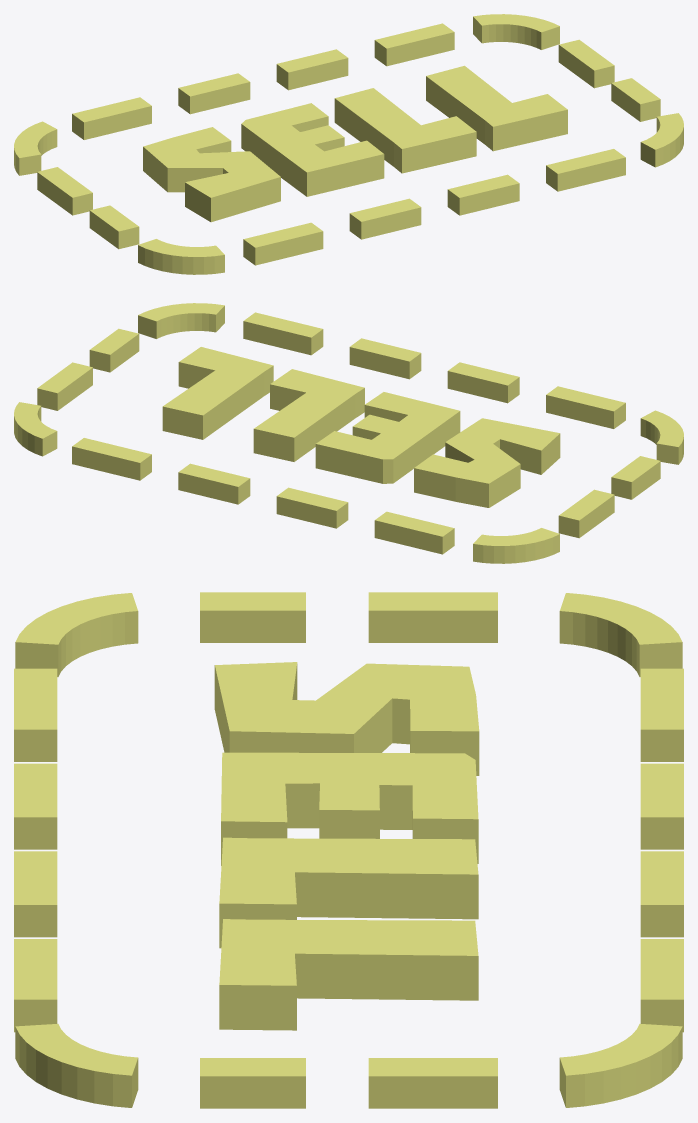
The model's file is sell-place.fbx.
The picture shows the model from 3 angles, top to bottom: view 1: azimuth 30°, elevation 25°; view 2: azimuth 150°, elevation 25°; view 3: azimuth 270°, elevation 25°; orthographic projection. The views are drawn at different scales.
Parts seen in each view (by area): view 1: sell-pacement; view 2: sell-pacement; view 3: sell-pacement.
Part boxes in pixels (x1,y1,x2,y2): sell-pacement: (14, 14, 683, 274); sell-pacement: (14, 303, 683, 563); sell-pacement: (14, 592, 683, 1108).
Size of the model in its own units: 589 by 25.85 by 344.
